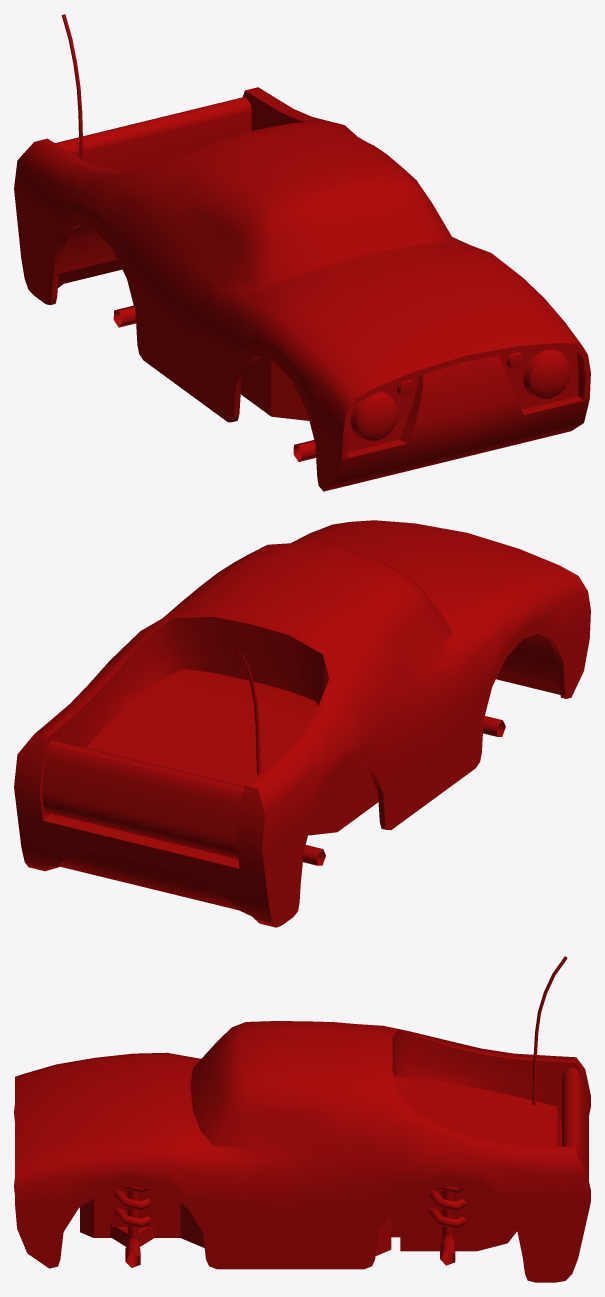
The model's file is RC_Car_Model.fbx.
3 views of the same model, one above another, from view 1: azimuth 30°, elevation 25°; view 2: azimuth 150°, elevation 25°; view 3: azimuth 270°, elevation 25° (orthographic). The views are drawn at different scales.
Visible parts, largest first — view 1: RC_Car, RC_Back; view 2: RC_Car, RC_Back; view 3: RC_Car, RC_Back.
Boxes of the visible parts, x1,y1,x2,y2 form: RC_Car: (14,14,590,491); RC_Back: (55,97,251,171); RC_Car: (14,520,590,927); RC_Back: (41,740,244,859); RC_Car: (14,956,590,1282); RC_Back: (562,1067,588,1180).
Size of the model in its own units: 13.69 by 31.53 by 14.91.
